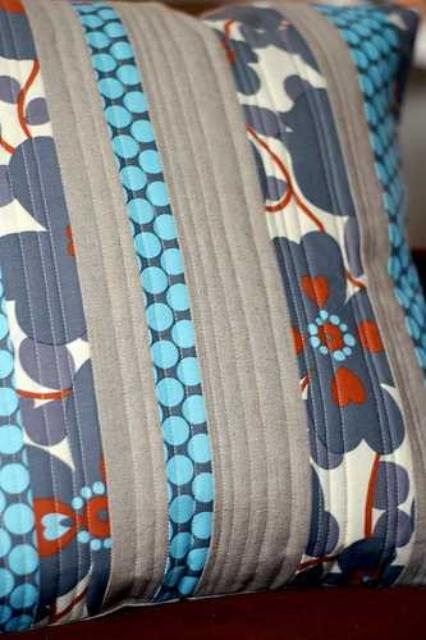pillow: (0, 0, 424, 636)
